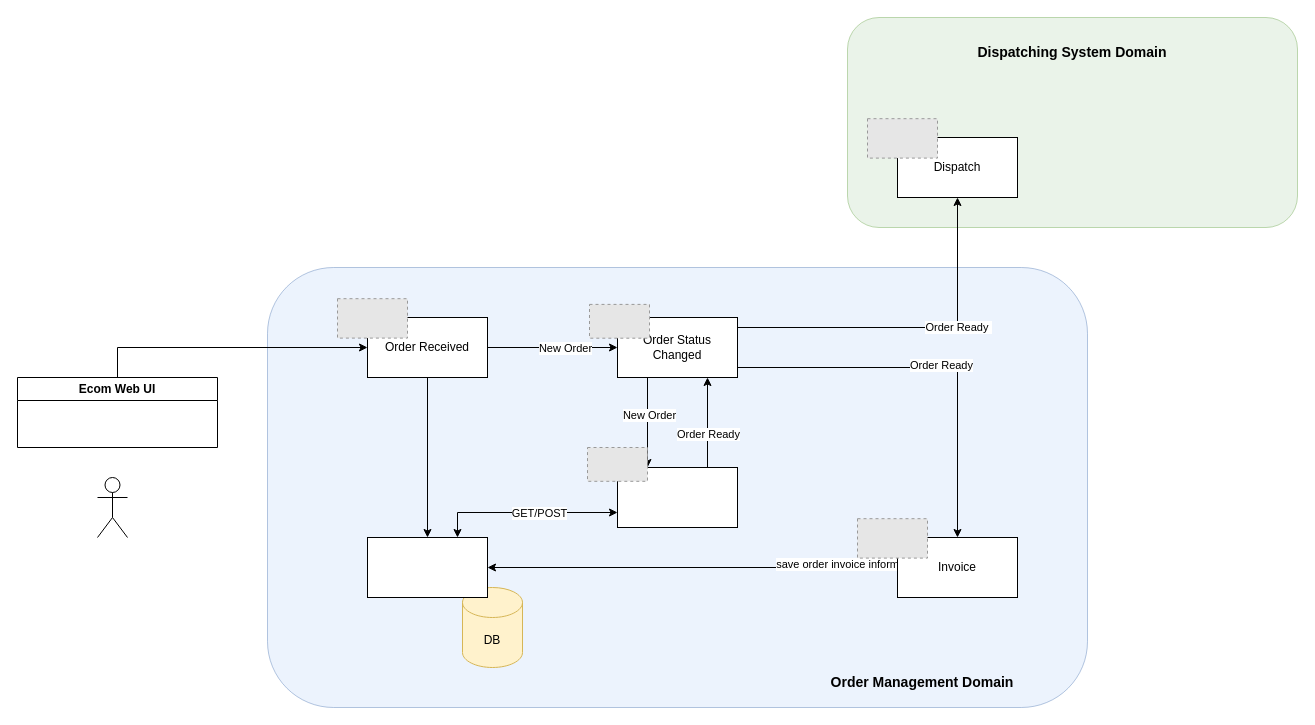
Image size: 1315x725. Some labels were removed from this diagram. Grey dashed boxes stand in for pictures. The shapes that lost their labels are listed below. From the top down, each one's centre as x and y in pixels, then its label:
[112,507]: Customer
[677,497]: Prepare Order
[427,567]: Order API
